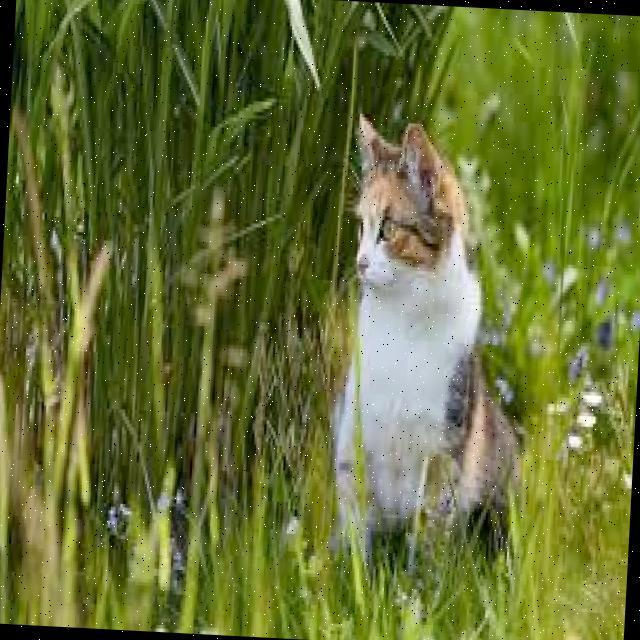Cats: (329, 117, 522, 552)
